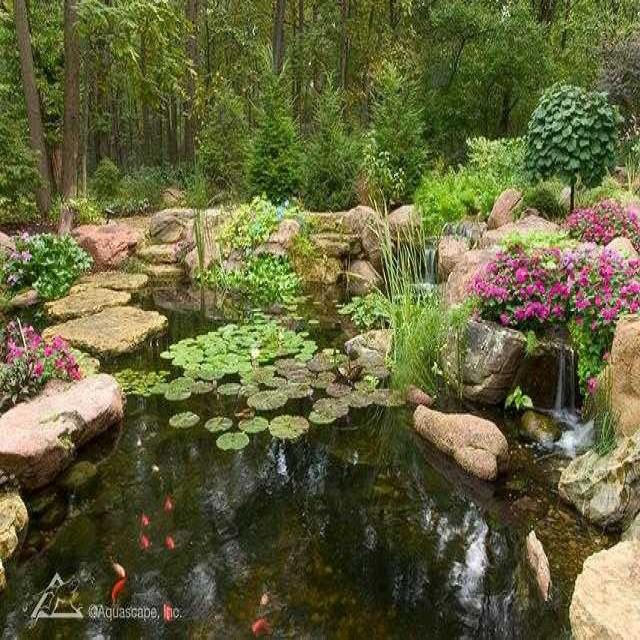Ponds: (1, 197, 640, 640)
